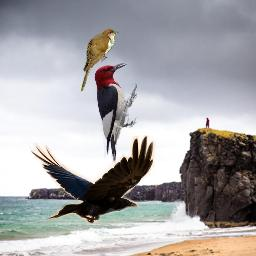Crow: (29, 135, 156, 224)
Cuckoo: (81, 28, 119, 92)
Woodpecker: (94, 62, 137, 165)
